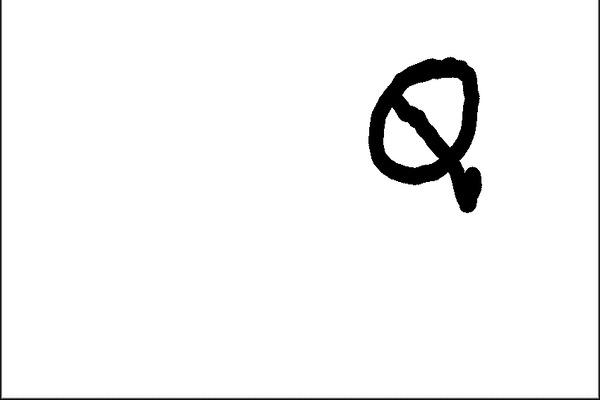Q: (347, 44, 488, 221)
